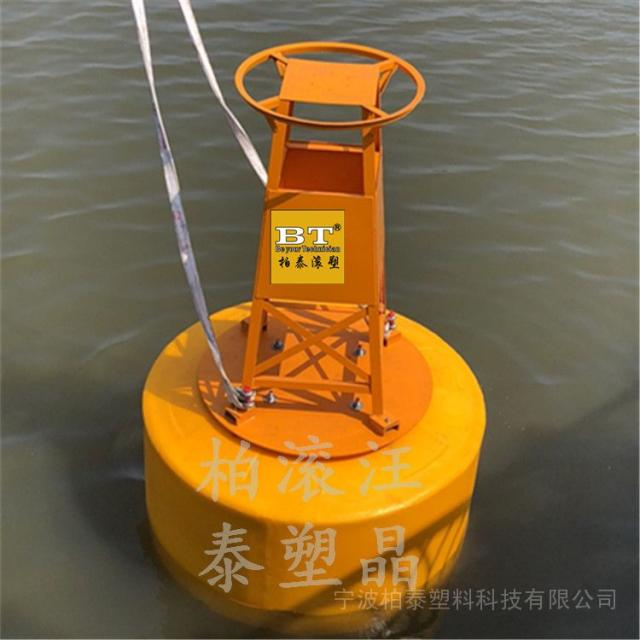buoy: (123, 36, 490, 621)
